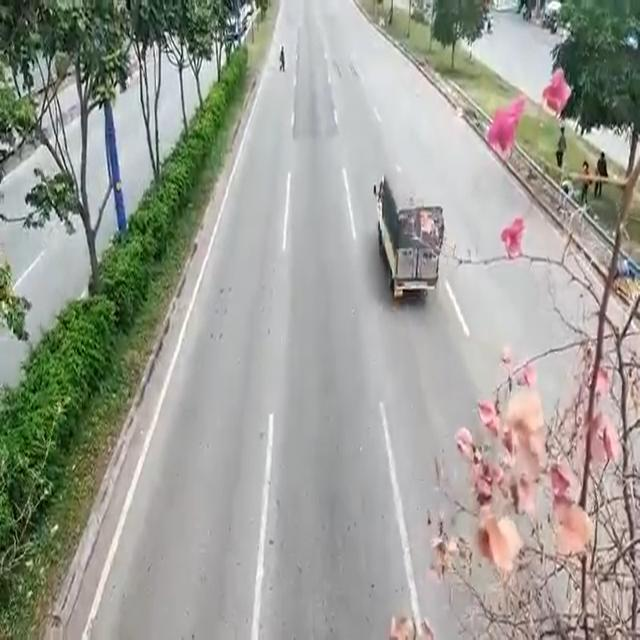truck: (372, 165, 446, 295)
